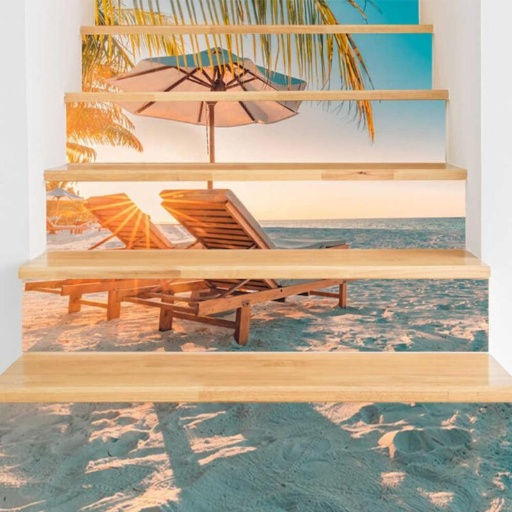Stairs: (0, 0, 93, 370), (420, 0, 512, 373)
